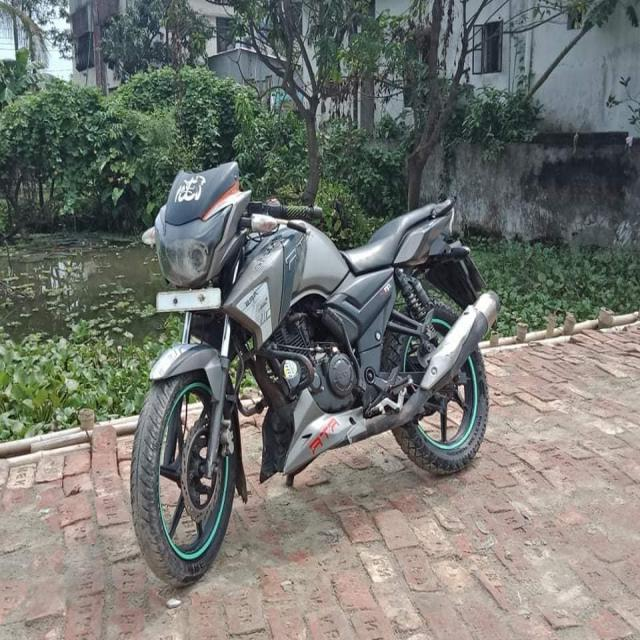Motorbike: (99, 159, 498, 592)
